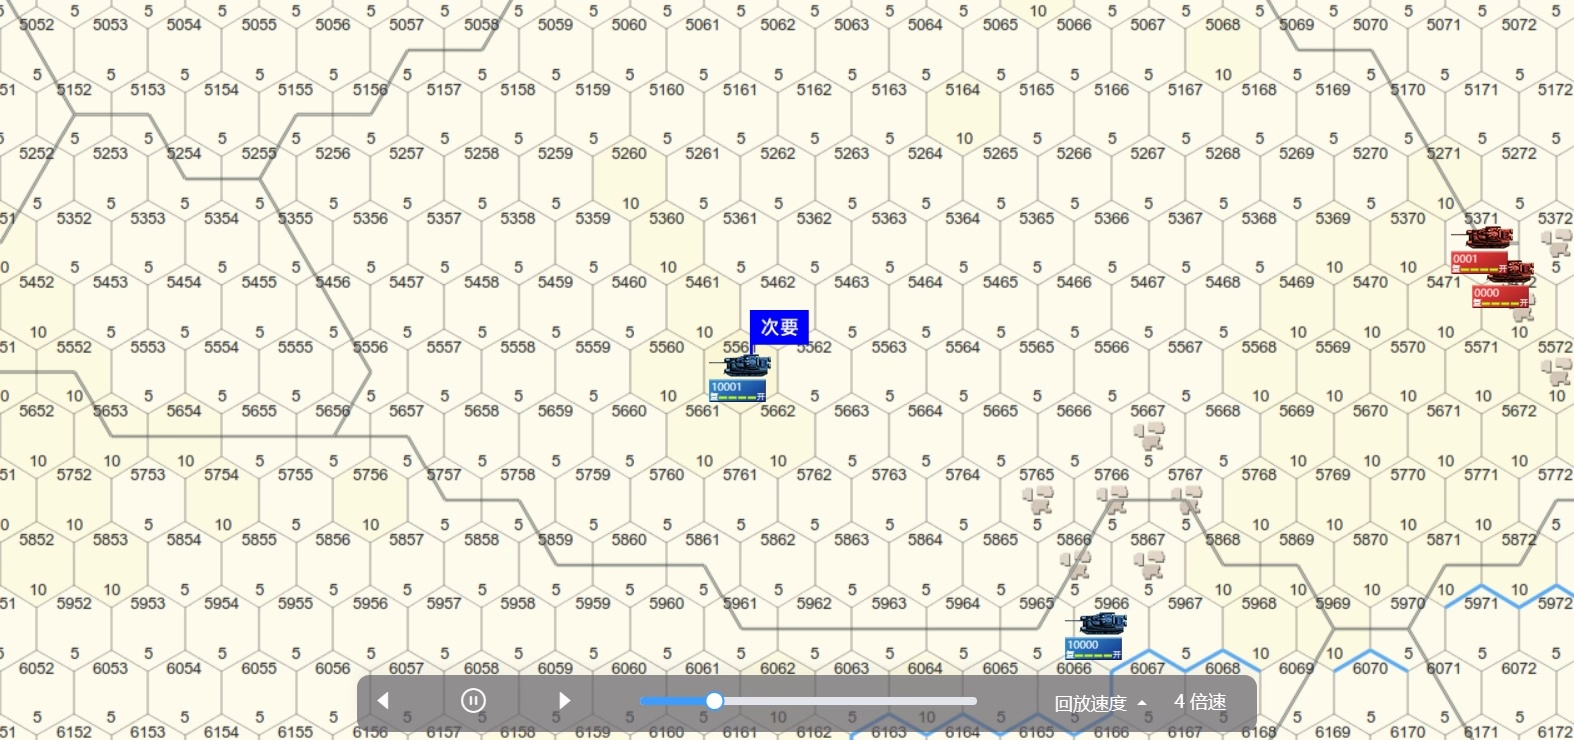blue_tank: (711, 354, 776, 398), (1065, 614, 1129, 656)
red_tank: (1470, 259, 1530, 308), (1454, 228, 1518, 265)
